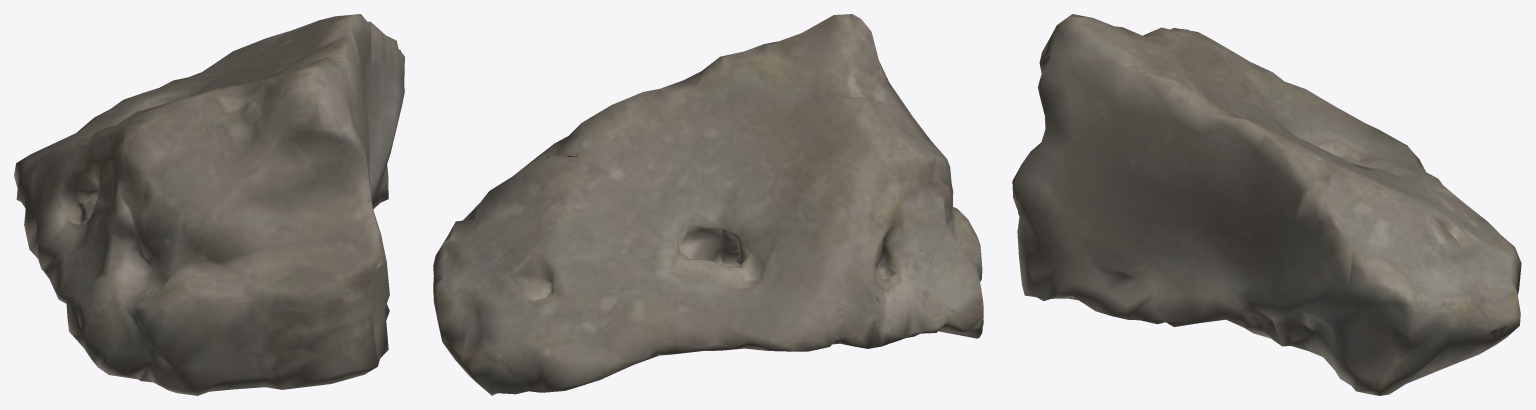
Rendered from ph-moon-rock-06.glb.
3 renders of one model, left to right at view 1: azimuth 30°, elevation 25°; view 2: azimuth 150°, elevation 25°; view 3: azimuth 270°, elevation 25°, orthographic. The views are drawn at different scales.
Visible parts, largest first — view 1: ph-moon-rock-06_LOD0; view 2: ph-moon-rock-06_LOD0; view 3: ph-moon-rock-06_LOD0.
Part boxes in pixels (left/top/right/bottom): ph-moon-rock-06_LOD0: left=14, top=14, right=404, bottom=395; ph-moon-rock-06_LOD0: left=433, top=14, right=983, bottom=395; ph-moon-rock-06_LOD0: left=1012, top=14, right=1521, bottom=395.
Size of what is drawn, in the model's own units: 0.9338 by 0.5995 by 0.9987.
1 material, 1 textured.
